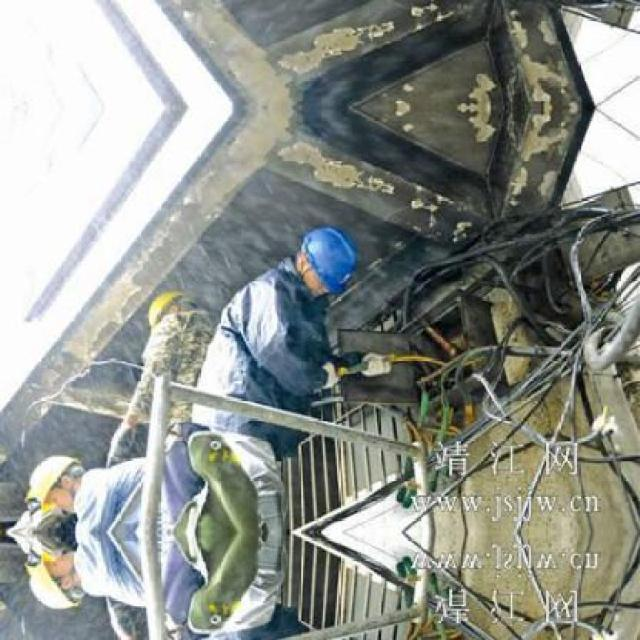helmet: (288, 218, 362, 293), (25, 449, 86, 514), (25, 548, 86, 612), (145, 285, 200, 333)
